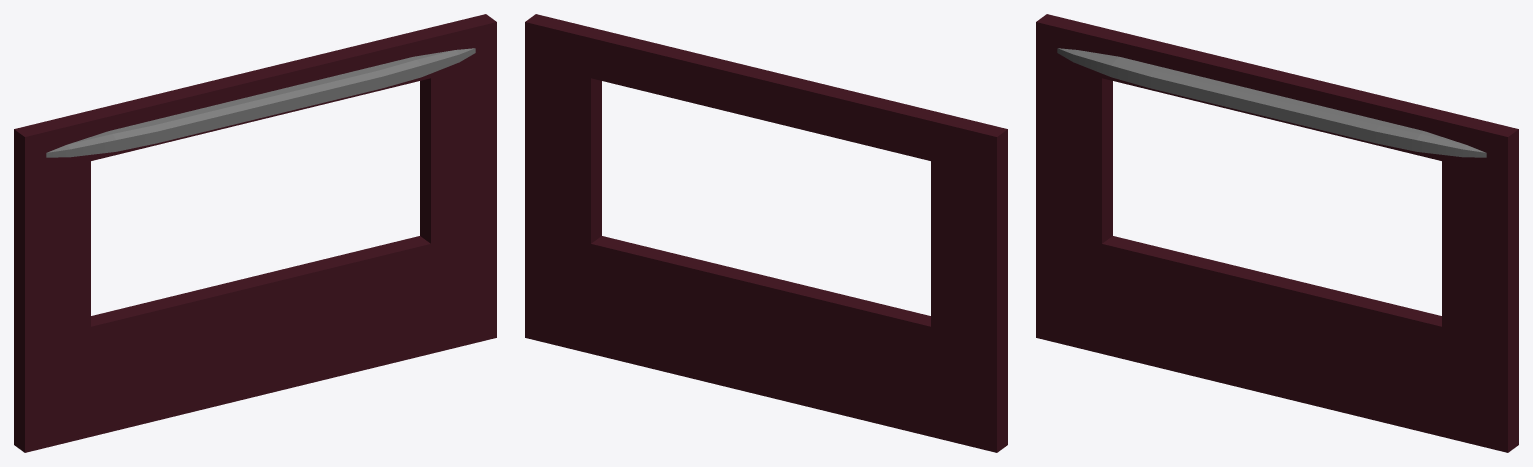
The model's file is Itr_Oven_Door_04.FBX.
The picture shows the model from 3 angles, left to right: view 1: azimuth 30°, elevation 25°; view 2: azimuth 150°, elevation 25°; view 3: azimuth 330°, elevation 25°; orthographic projection.
Visible parts, largest first — view 1: Itr_Oven_Door_04; view 2: Itr_Oven_Door_04; view 3: Itr_Oven_Door_04.
Part boxes in pixels (x1,y1,x2,y2): Itr_Oven_Door_04: (14, 14, 496, 452); Itr_Oven_Door_04: (525, 14, 1007, 452); Itr_Oven_Door_04: (1036, 14, 1518, 452).
Size of the model in its own units: 45.15 by 28.87 by 3.37.
